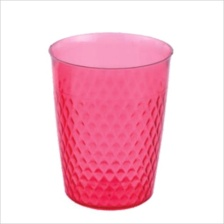glass: (41, 23, 178, 214)
